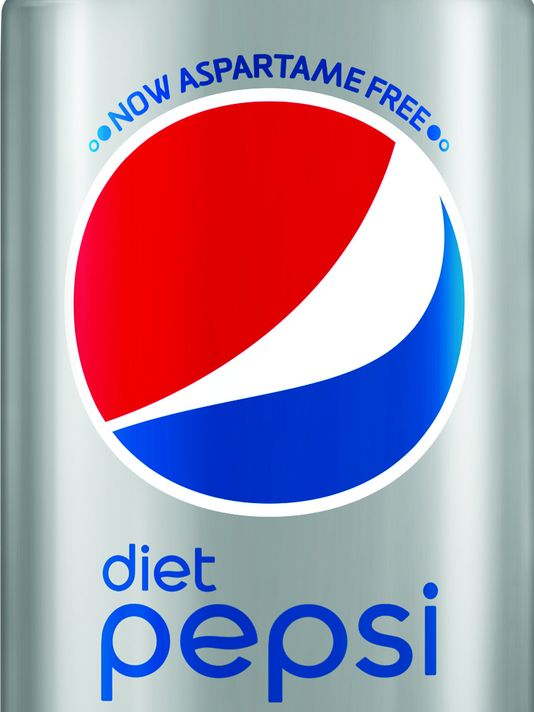pepsi: (62, 87, 473, 516), (62, 101, 473, 516)
